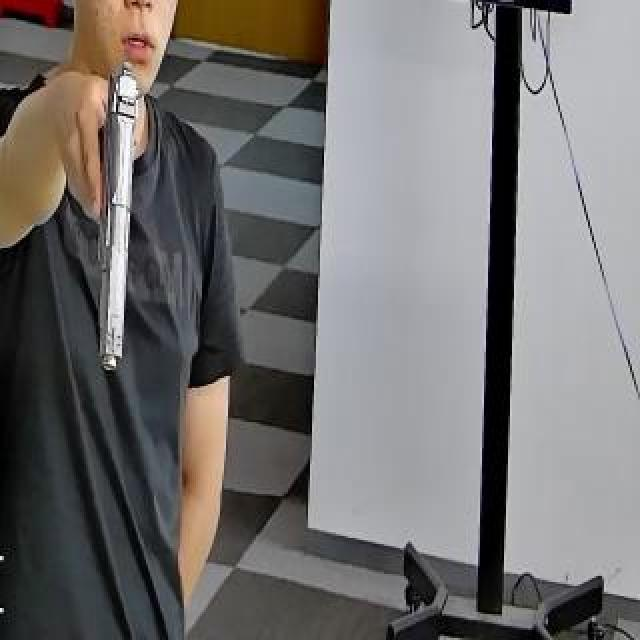Guns: (65, 58, 174, 402)
